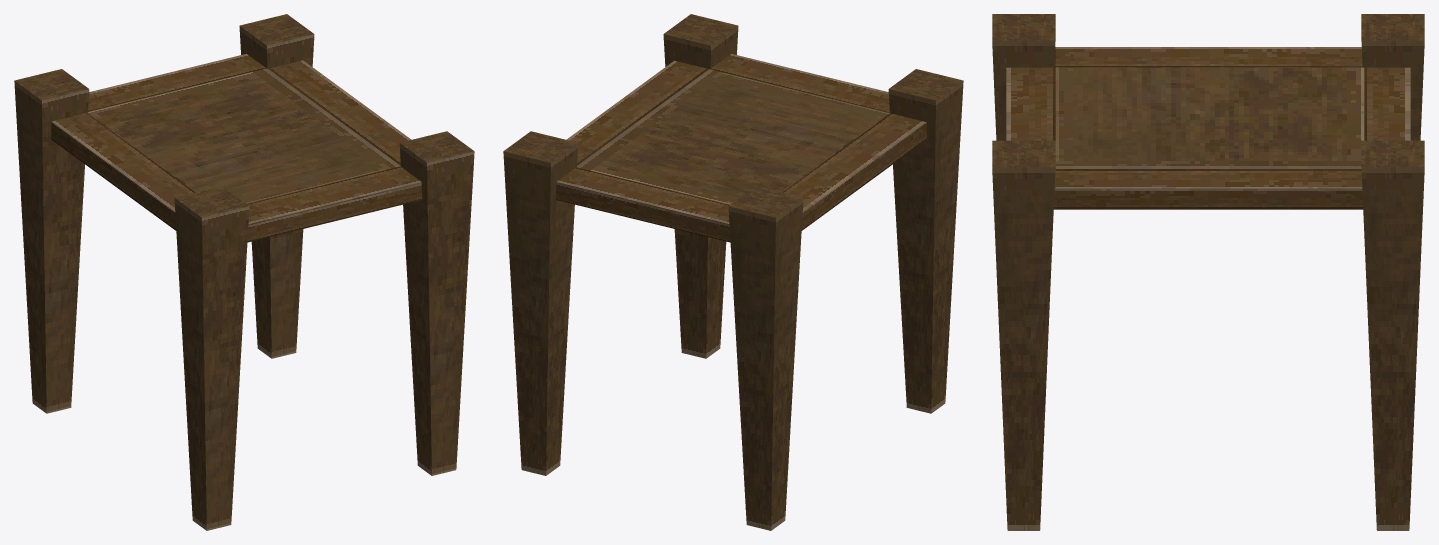
Rendered from endtable_slum2.fbx.
3 views of the same model, side by side, from view 1: azimuth 30°, elevation 25°; view 2: azimuth 150°, elevation 25°; view 3: azimuth 270°, elevation 25° (orthographic). The views are drawn at different scales.
Visible parts, largest first — view 1: mesh_0; view 2: mesh_0; view 3: mesh_0.
Boxes of the visible parts, bbox=[...] form: mesh_0: bbox=[14, 14, 474, 530]; mesh_0: bbox=[503, 14, 963, 530]; mesh_0: bbox=[992, 14, 1424, 530].
Bounding box in the file's own units: 57.55 × 64.71 × 68.57.
Materials: 1 (1 with a texture image).
